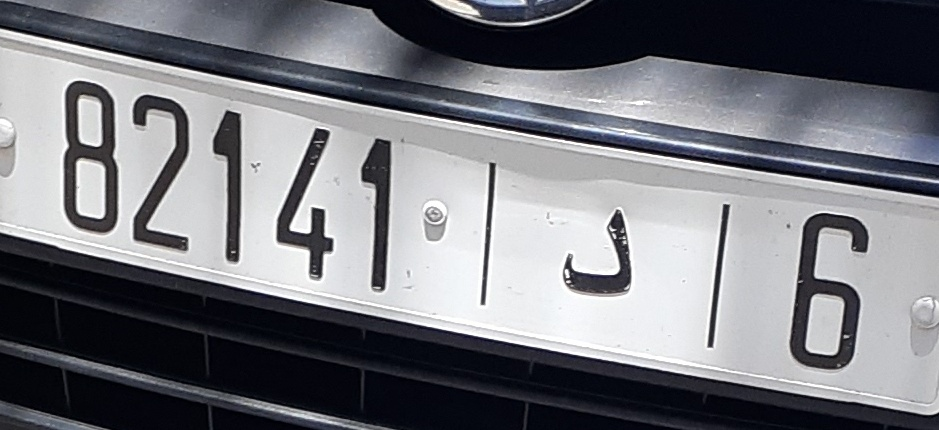1: (352, 126, 414, 295), (199, 104, 259, 267)
2: (123, 86, 199, 250)
4: (270, 120, 341, 282)
6: (782, 202, 878, 374)
8: (55, 72, 125, 245)
d: (546, 187, 648, 310)
